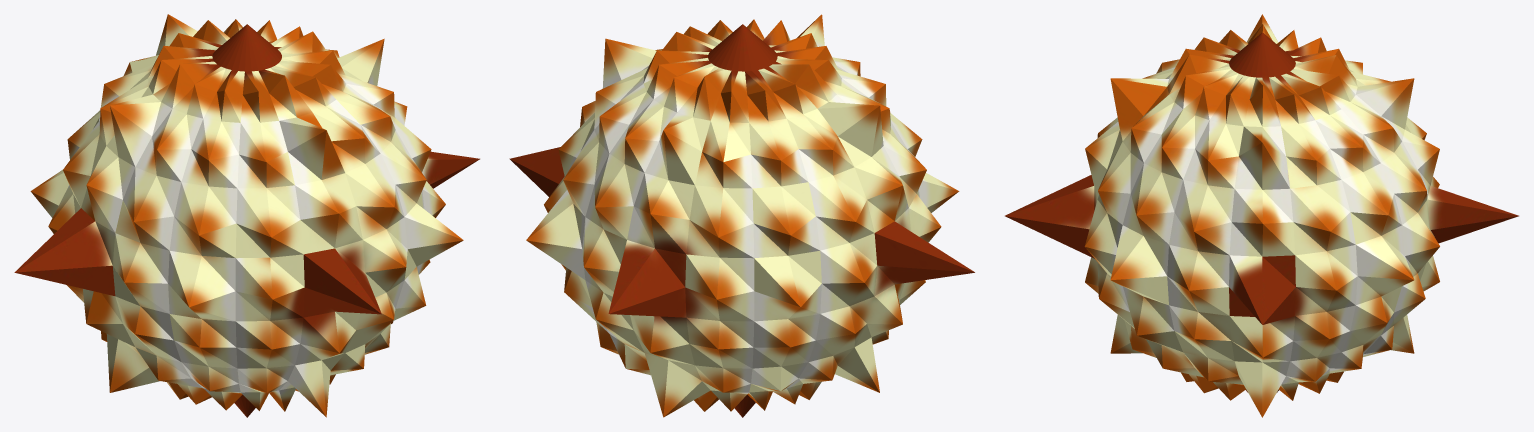
Rendered from explosion1.obj.
3 views of the same model, side by side, from view 1: azimuth 30°, elevation 25°; view 2: azimuth 150°, elevation 25°; view 3: azimuth 270°, elevation 25° (orthographic). The views are drawn at different scales.
Bounding box in the file's own units: 3.01 × 2.43 × 3.01.
